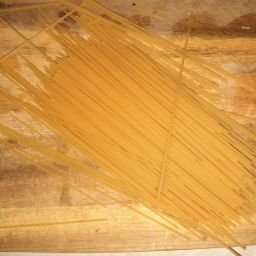Penne pasta: (4, 5, 180, 232), (118, 26, 256, 256), (38, 29, 114, 190)
